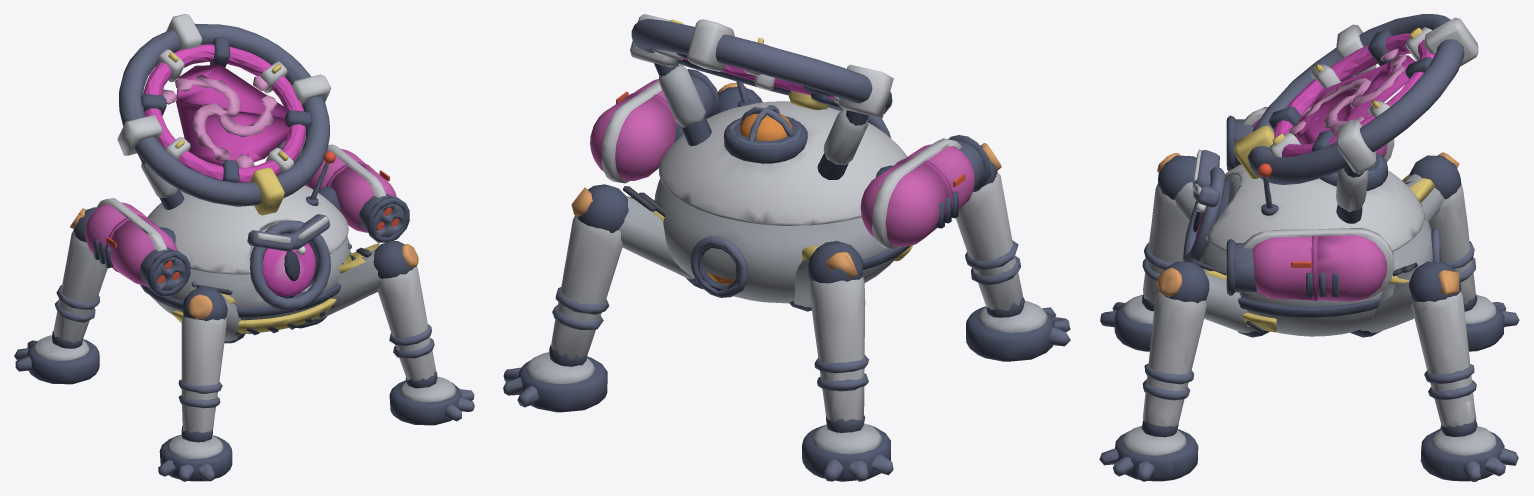
The model's file is boss.glb.
The picture shows the model from 3 angles, left to right: view 1: azimuth 30°, elevation 25°; view 2: azimuth 150°, elevation 25°; view 3: azimuth 270°, elevation 25°; orthographic projection. The views are drawn at different scales.
Parts seen in each view (by area): view 1: hull, arch, portal_glow, shin_fr, shin_fl, shin_br, cannon_r, cannon_l, ring_glow, ring, leg_fl, eye_glow (+2 smaller); view 2: hull, arch, shin_br, shin_bl, shin_fr, cannon_r, cannon_l, leg_bl, ring, hull_glow, leg_br, shin_fl (+1 smaller); view 3: hull, arch, shin_fl, shin_bl, cannon_l, shin_fr, shin_br, portal_glow, ring, ring_glow, leg_bl, leg_fl (+4 smaller).
Part boxes in pixels (left/top/right/bottom): hull: left=140, top=162, right=351, bottom=335; arch: left=117, top=14, right=331, bottom=215; portal_glow: left=161, top=65, right=289, bottom=167; shin_fr: left=158, top=287, right=232, bottom=481; shin_fl: left=373, top=241, right=474, bottom=425; shin_br: left=14, top=207, right=107, bottom=384; cannon_r: left=85, top=198, right=190, bottom=296; cannon_l: left=305, top=144, right=409, bottom=242; ring_glow: left=143, top=44, right=305, bottom=182; ring: left=141, top=37, right=312, bottom=182; leg_fl: left=311, top=242, right=380, bottom=322; eye_glow: left=262, top=234, right=315, bottom=296; hull: left=654, top=81, right=913, bottom=303; arch: left=630, top=14, right=893, bottom=179; shin_br: left=802, top=241, right=893, bottom=481; shin_bl: left=503, top=184, right=628, bottom=412; shin_fr: left=956, top=143, right=1070, bottom=361; cannon_r: left=860, top=135, right=991, bottom=249; cannon_l: left=590, top=69, right=720, bottom=183; leg_bl: left=618, top=186, right=699, bottom=284; ring: left=653, top=19, right=839, bottom=106; hull_glow: left=706, top=113, right=792, bottom=284; leg_br: left=789, top=246, right=818, bottom=311; shin_fl: left=686, top=82, right=762, bottom=289; hull: left=1183, top=153, right=1440, bottom=336; arch: left=1234, top=14, right=1478, bottom=223; shin_fl: left=1099, top=261, right=1209, bottom=481; shin_bl: left=1409, top=261, right=1518, bottom=481; cannon_l: left=1226, top=227, right=1394, bottom=301; shin_fr: left=1100, top=153, right=1195, bottom=351; shin_br: left=1409, top=152, right=1519, bottom=351; portal_glow: left=1289, top=48, right=1415, bottom=144; ring: left=1268, top=27, right=1432, bottom=157; ring_glow: left=1273, top=33, right=1434, bottom=157; leg_bl: left=1350, top=262, right=1417, bottom=337; leg_fl: left=1190, top=258, right=1269, bottom=337.
Size of the model in its own units: 3.23 by 3.22 by 3.22.
